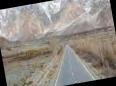sharp_turn: (53, 42, 88, 86)
